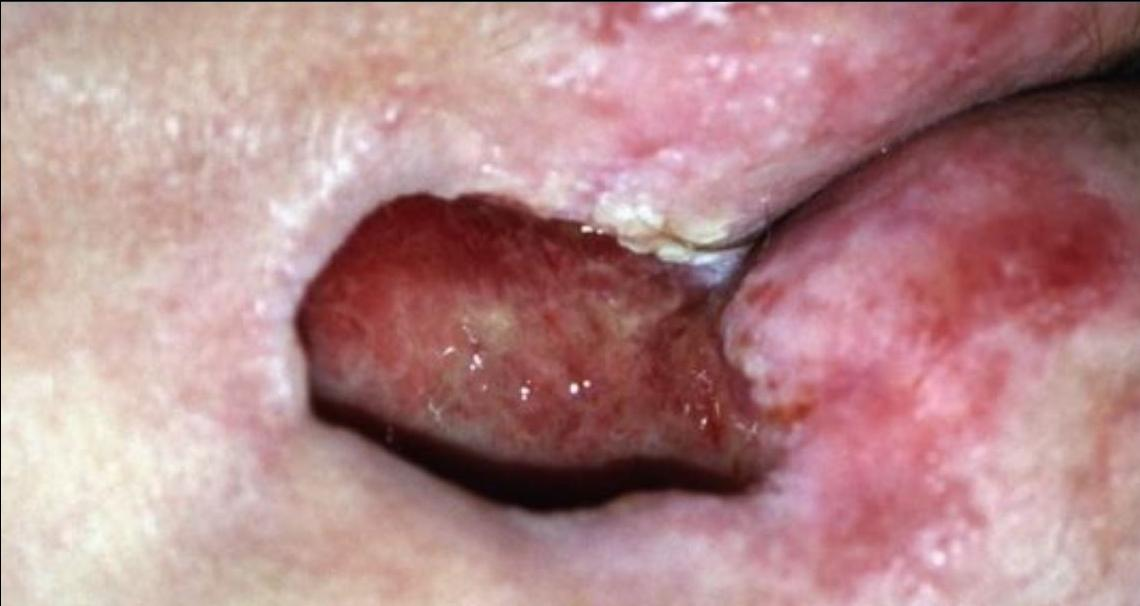Stage4: (208, 152, 955, 571)
